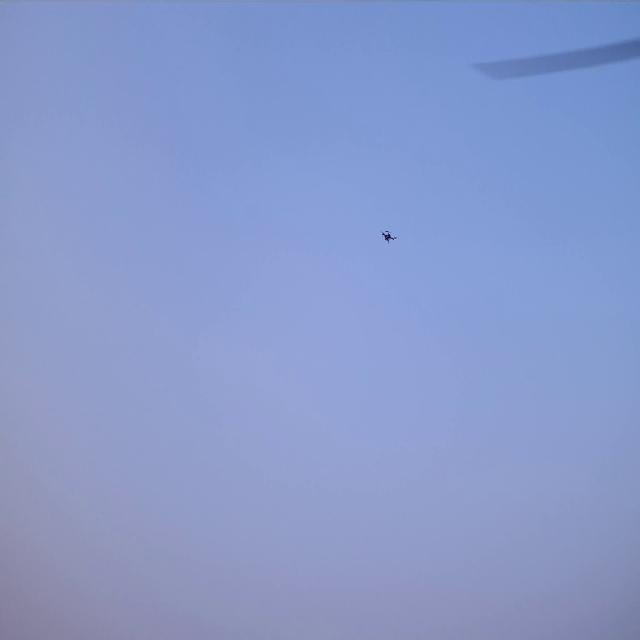UAV: (382, 231, 396, 241)
